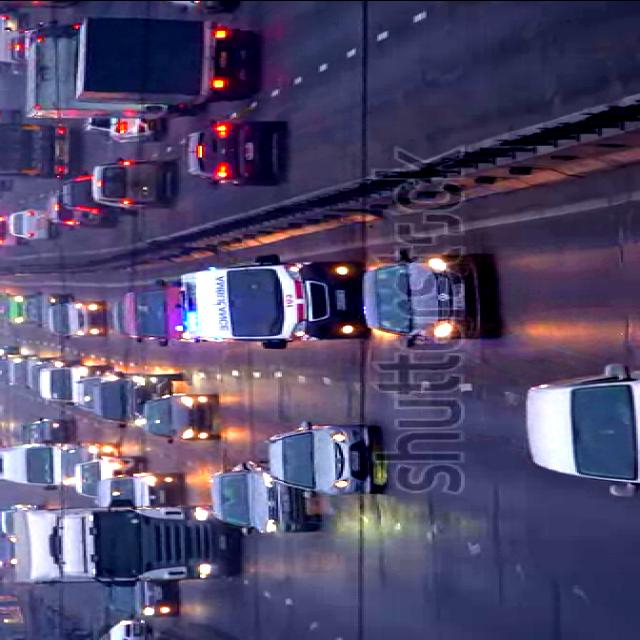ambulance: (183, 252, 369, 346)
